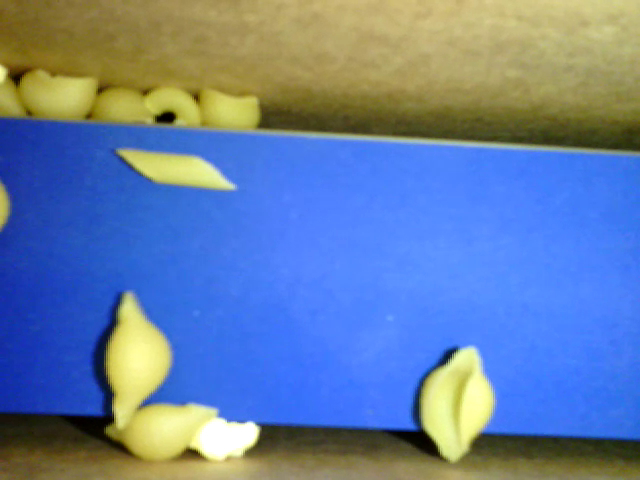elbow: (143, 86, 198, 128)
penne: (114, 149, 235, 192)
shell: (104, 290, 171, 430), (419, 345, 497, 464), (105, 399, 220, 462), (18, 69, 99, 120), (197, 86, 259, 130), (91, 87, 155, 126)
